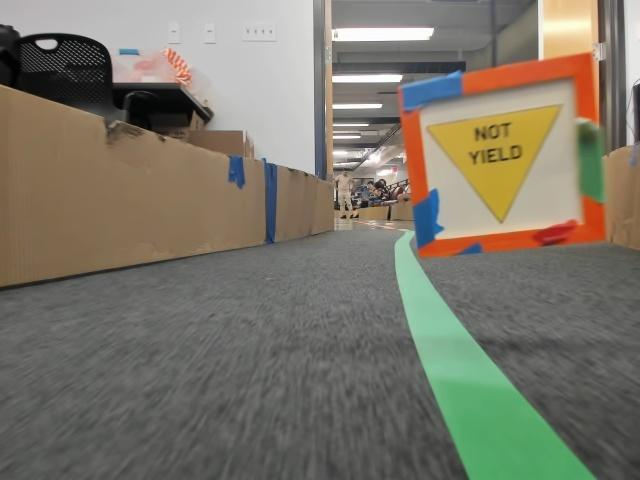Do Not Yield: (425, 127, 561, 235)
